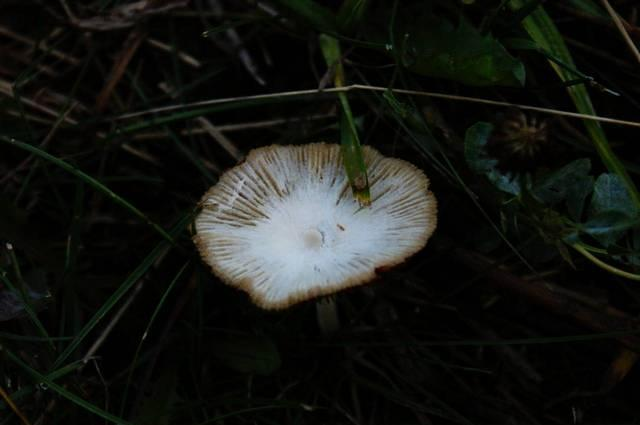Edible Mushroom: (189, 140, 438, 322)
